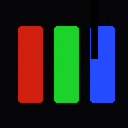4 line_v: (91, 0, 97, 58)
